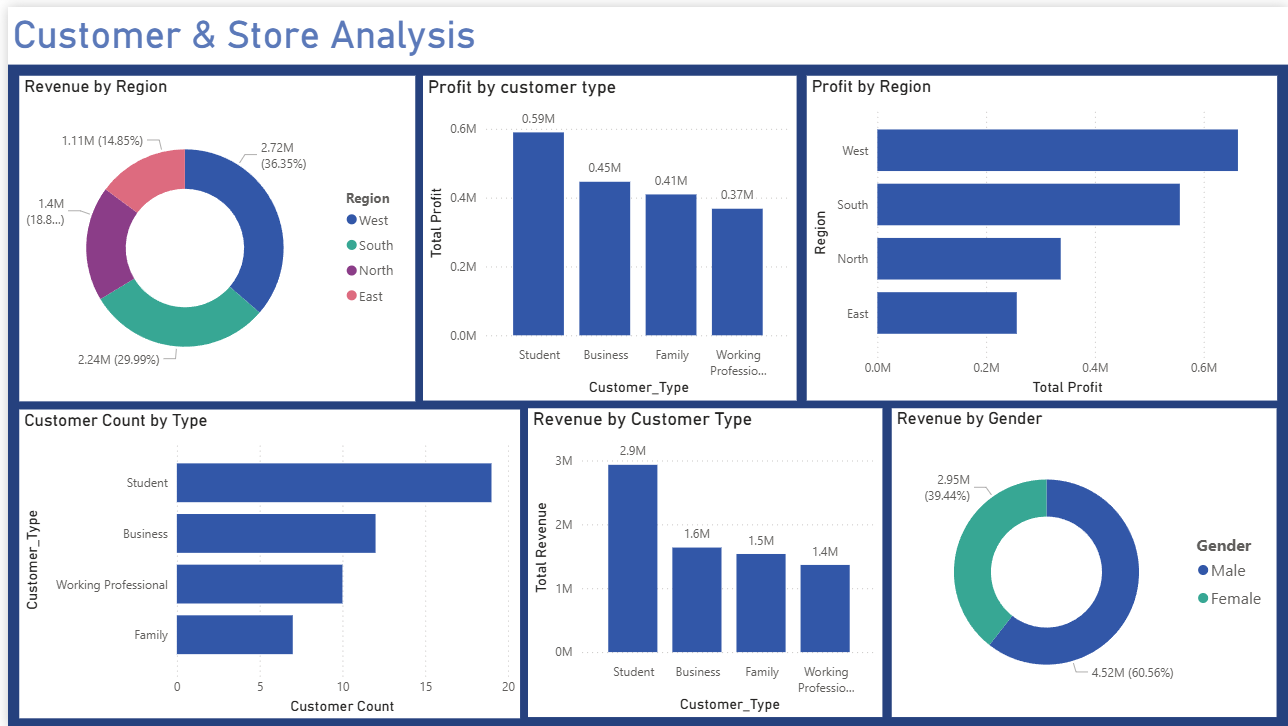

Layout of this report page (visuals, bound fields, positions):
{"tool":"powerbi","page":{"name":"Customer & Store Analysis","canvas":[1280,720],"ordinal":1},"visuals":[{"type":"textbox","box":[0,0,1280,57.5],"z":0},{"type":"clusteredColumnChart","title":"Revenue by Customer Type","fields":{"Y":["SalesDataTable.Total Revenue"],"Category":["CustomersTable.Customer_Type"]},"box":[520,401.7,354.7,308.8],"z":1000},{"type":"clusteredColumnChart","title":"Profit by customer type","fields":{"Category":["CustomersTable.Customer_Type"],"Y":["SalesDataTable.Total Profit"]},"box":[414.5,69.1,373.6,324.5],"z":2000},{"type":"clusteredBarChart","title":"Profit by Region","fields":{"Category":["StoresTable.Region"],"Y":["SalesDataTable.Total Profit"]},"box":[798.7,68.8,470.5,324.5],"z":3000},{"type":"donutChart","title":"Revenue by Gender","fields":{"Category":["CustomersTable.Gender"],"Y":["SalesDataTable.Total Revenue"]},"box":[884.3,401.7,384.9,308.8],"z":4000},{"type":"clusteredBarChart","title":"Customer Count by Type","fields":{"Category":["CustomersTable.Customer_Type"],"Y":["CustomersTable.Customer Count"]},"box":[11,402,501,309],"z":5000},{"type":"donutChart","title":"Revenue by Region","fields":{"Category":["StoresTable.Region"],"Y":["SalesDataTable.Total Revenue"]},"box":[10.9,68.8,395.7,325.7],"z":6000}]}

Visuals, with their boxes in screenshot pixels (x1, y1, x2, y2), scaled from the page's 1280x720 canvas onto the 1288x726 screenshot:
textbox: region(0, 0, 1287, 58)
"Revenue by Customer Type" clusteredColumnChart: region(523, 405, 880, 716)
"Profit by customer type" clusteredColumnChart: region(417, 70, 793, 397)
"Profit by Region" clusteredBarChart: region(804, 69, 1277, 397)
"Revenue by Gender" donutChart: region(890, 405, 1277, 716)
"Customer Count by Type" clusteredBarChart: region(11, 405, 515, 717)
"Revenue by Region" donutChart: region(11, 69, 409, 398)
